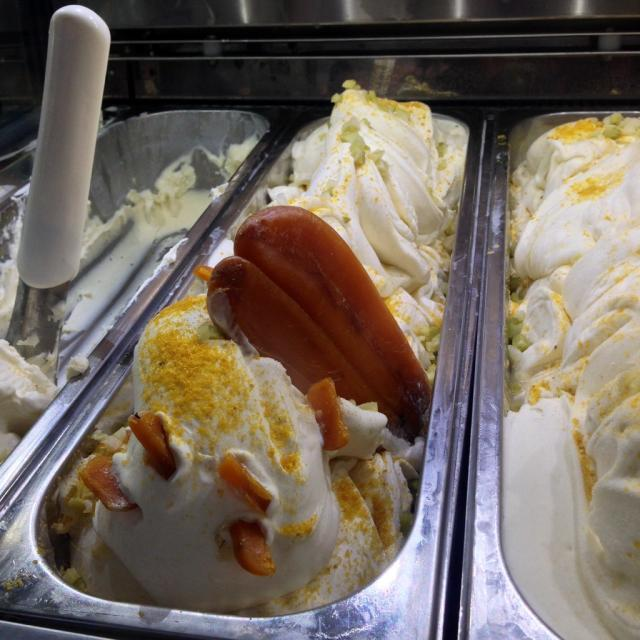Ice cream: (50, 75, 470, 615), (494, 119, 640, 640), (0, 338, 86, 468)
